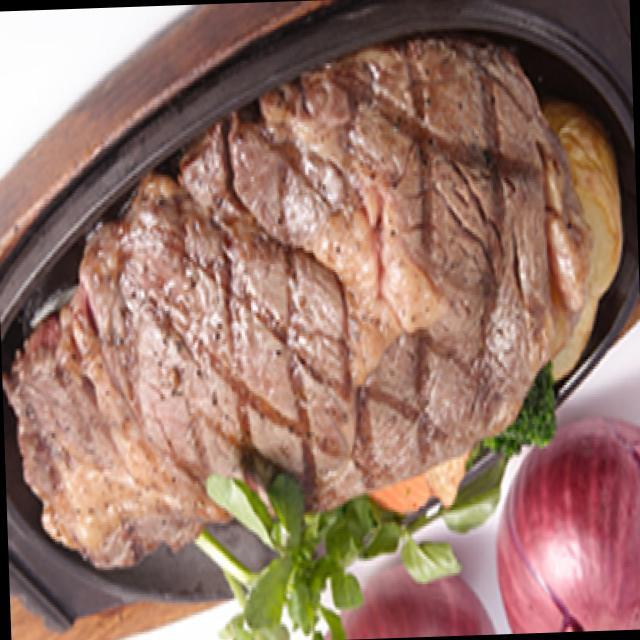Beef Steak: (0, 70, 620, 491)
